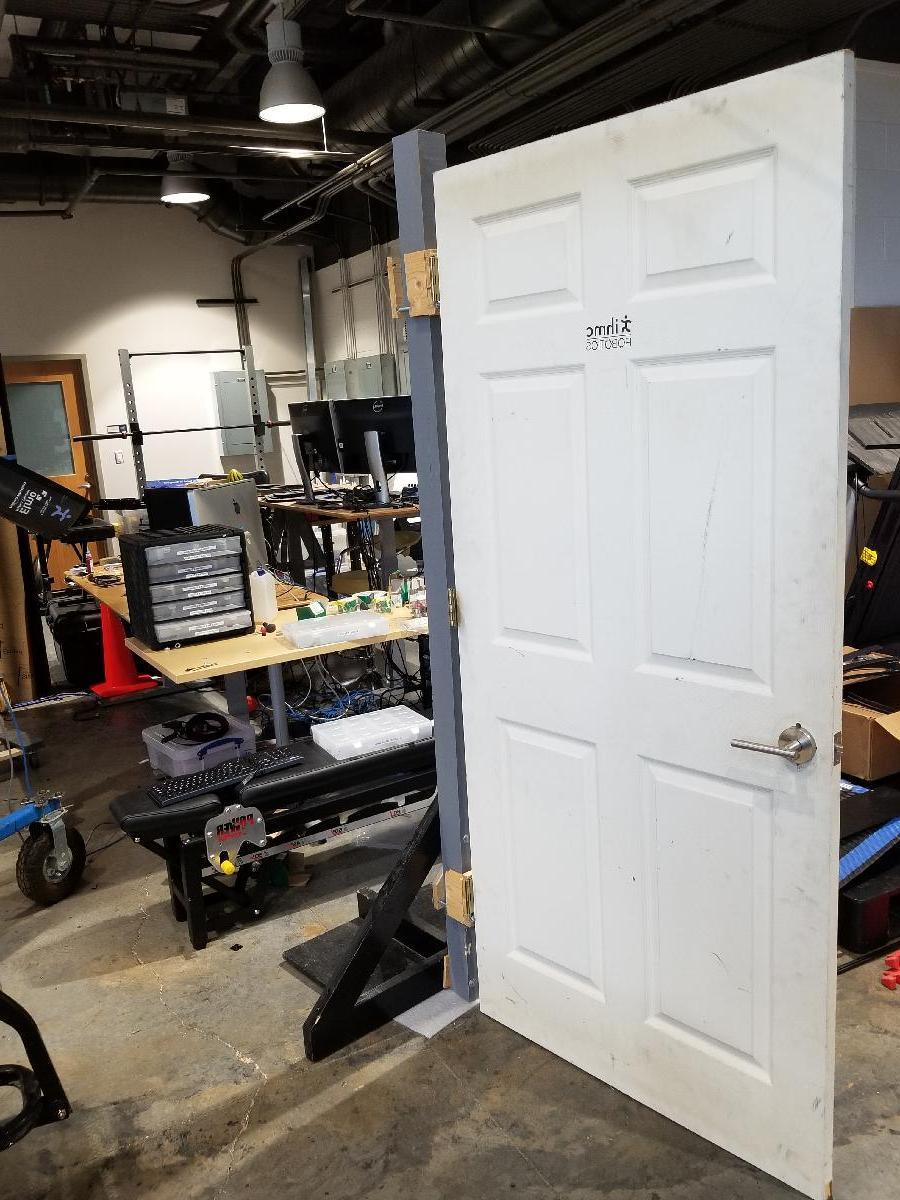door: (429, 50, 859, 1193)
handle: (726, 718, 822, 773)
